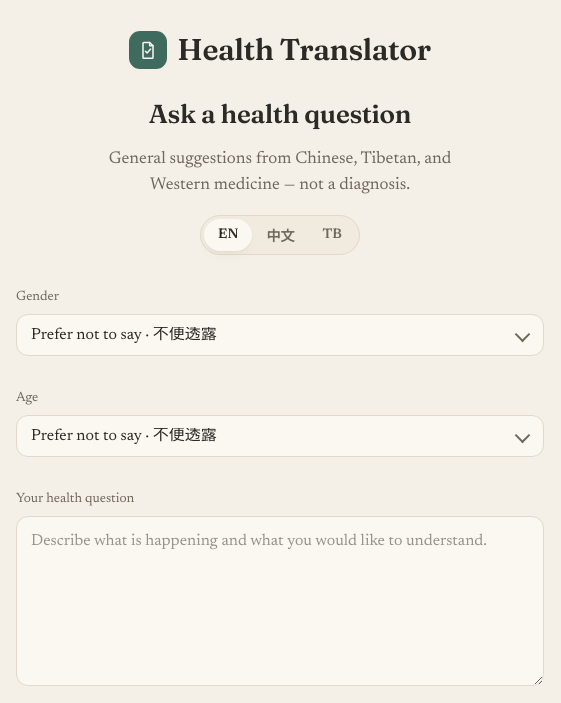
it: advice page T4 live flow › maps status 413 to honest client copy without reading the response body
The width and height of the screenshot is (561, 703).
Replace the text in the text box labelled "Your health question" with "How can I sleep better?". click: (280, 601)
box: x1=16 y1=516 x2=544 y2=686
(page scrolled)
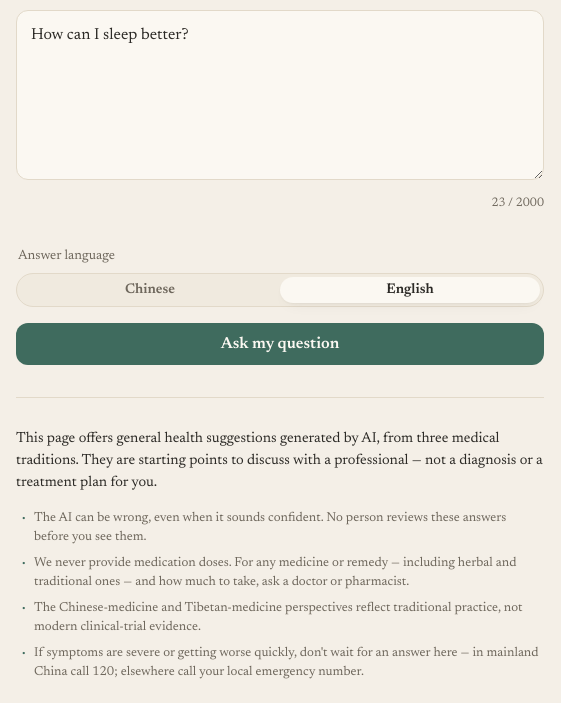
Click the button "Ask my question". click: (280, 344)
box: x1=16 y1=323 x2=544 y2=365
(page scrolled)
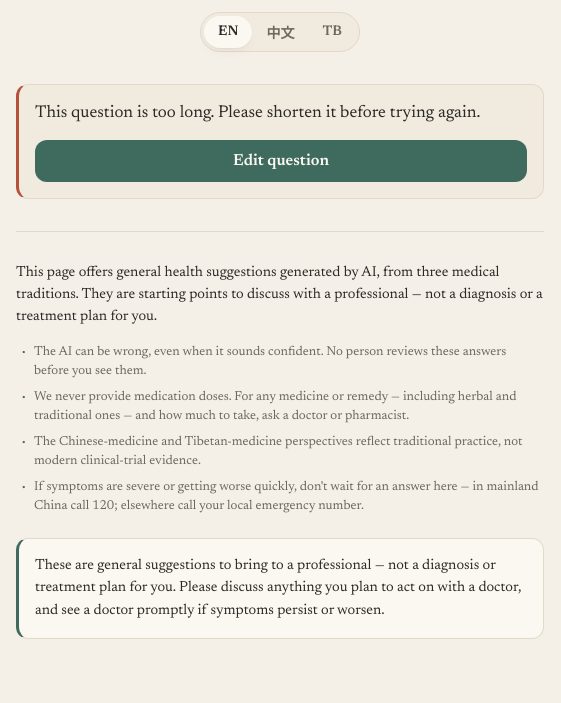
Expected: the number of elements with test id "advice-disclaimer" is 5, x1=16 y1=262 x2=544 y2=328; x1=16 y1=342 x2=544 y2=381; x1=16 y1=387 x2=544 y2=426; x1=16 y1=432 x2=544 y2=471; x1=16 y1=477 x2=544 y2=516
Now the message shows "This question is too long.", box x1=35 y1=105 x2=480 y2=122
